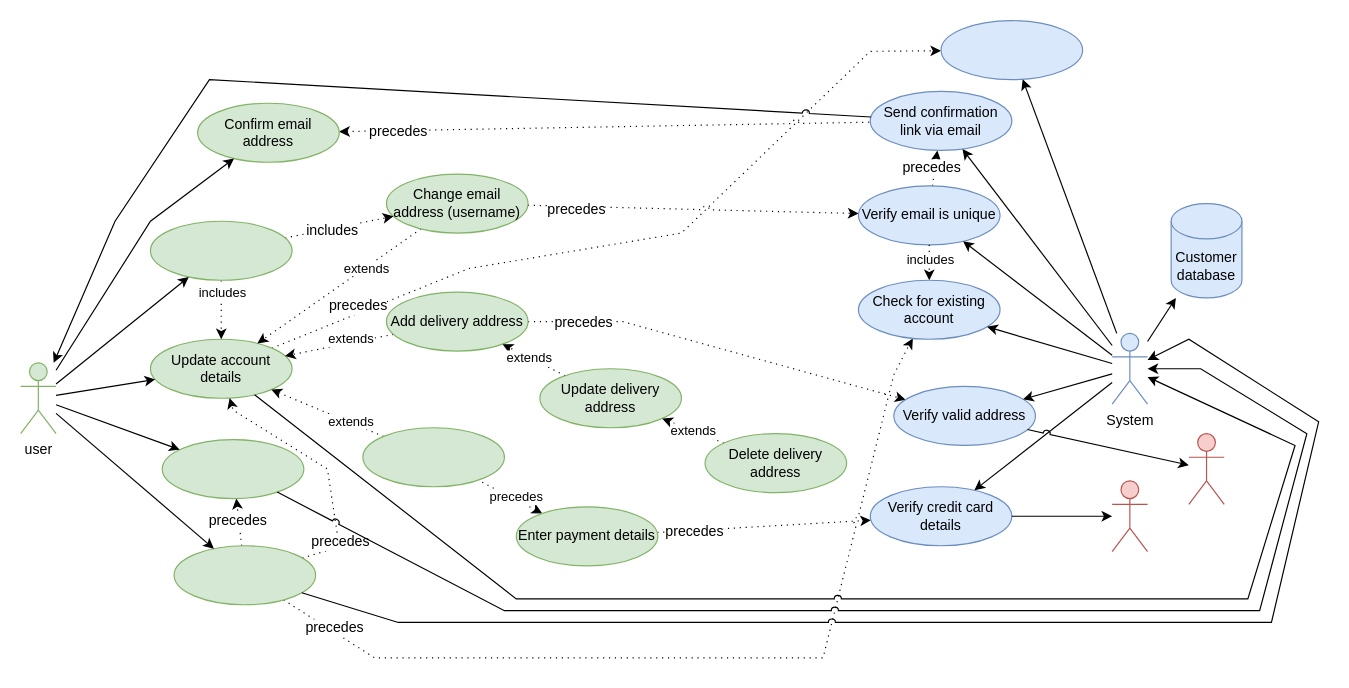
Image size: 1349x688. Some labels were removed from this diagram. The shapes that lost their labels are listed below. From the top down, each one's box as (x1, y1, x2, y2) in pixels, then its label:
(940, 19, 1083, 80): Update customer database
(149, 220, 292, 280): Register
(161, 438, 304, 499): View account
(362, 427, 504, 487): Add payment method
(1188, 432, 1224, 504): MAP API
(1111, 480, 1148, 552): Third-party payment verification service
(173, 545, 316, 605): Login
